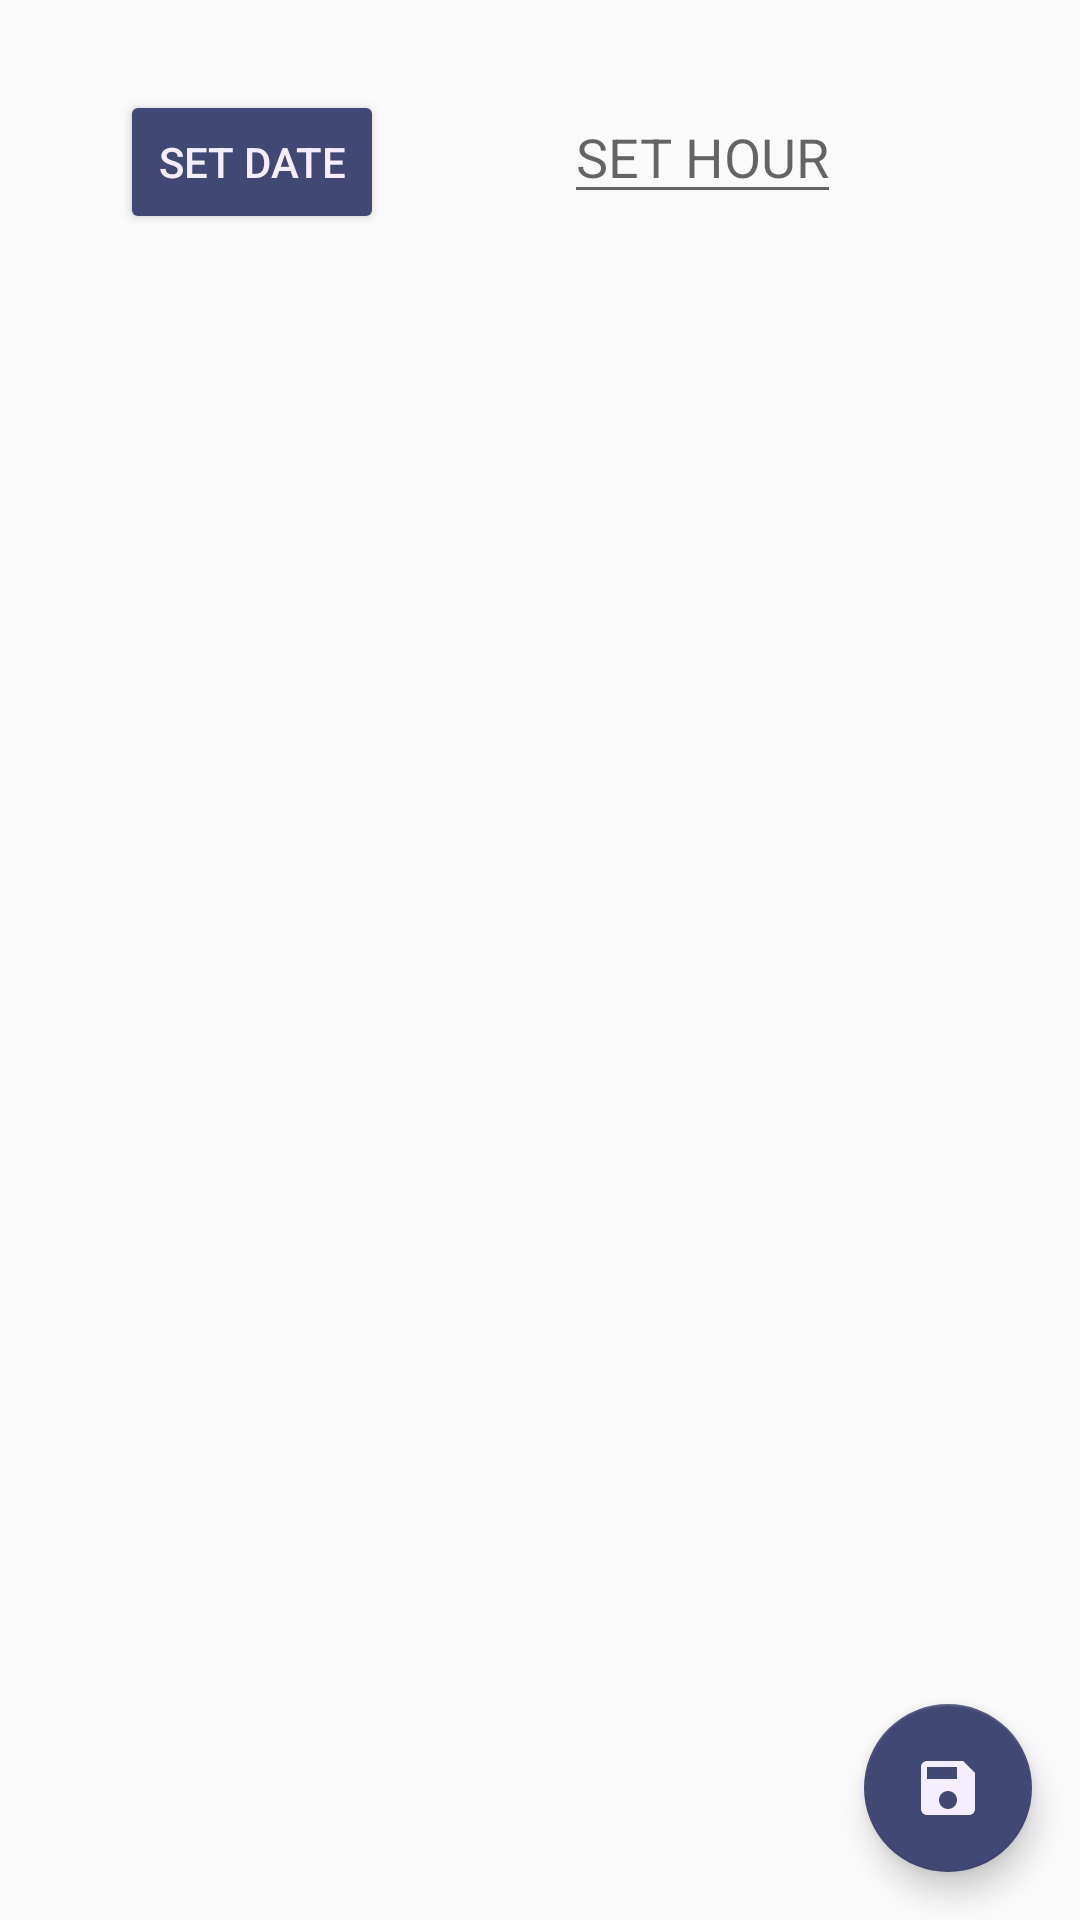

Locate icon controls on the screen. Image size 1080 × 1920, boxes as (x1, y1, x2, y2).
save: (864, 1704, 1032, 1872)
